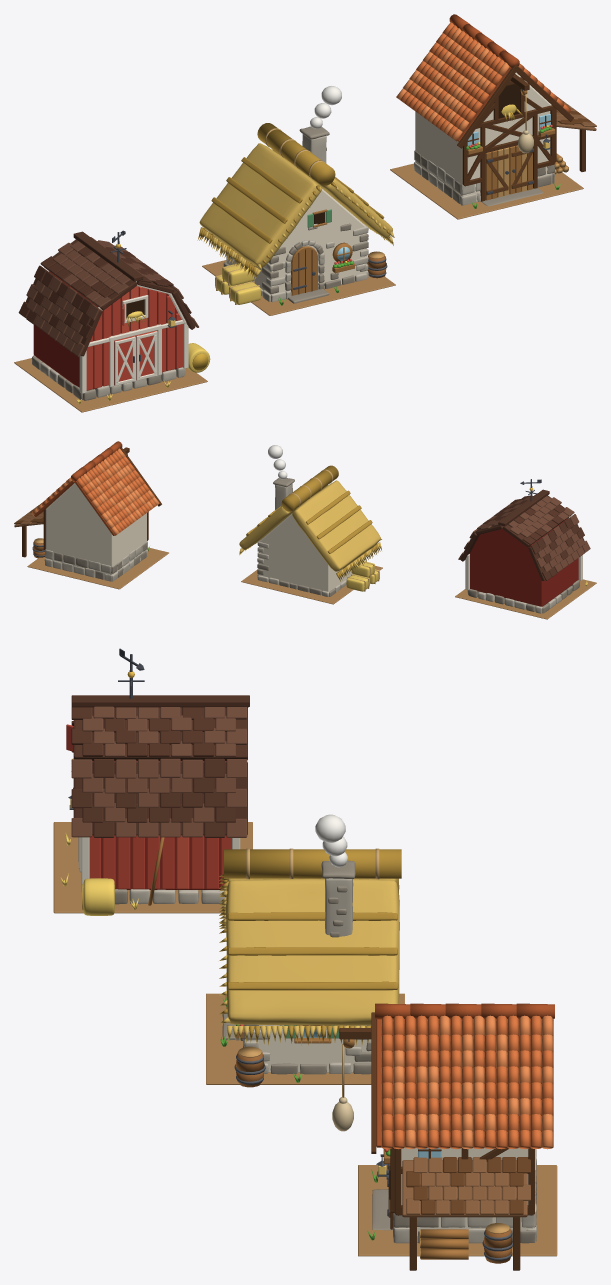
Rendered from granges.glb.
The picture shows the model from 3 angles, top to bottom: view 1: azimuth 30°, elevation 25°; view 2: azimuth 150°, elevation 25°; view 3: azimuth 270°, elevation 25°; orthographic projection. The views are drawn at different scales.
Parts seen in each view (by area): view 1: chaume, bardeau.001, tuile.001, poutre, mur.002, planche, mur.001, bordure, bardeau, tuile, terre_battue.002, terre_battue (+23 smaller); view 2: mur.002, mur, chaume, mur.001, bardeau.001, tuile.001, tuile, bardeau, terre_battue.002, pierre.004, terre_battue, faitiere (+18 smaller); view 3: chaume, tuile.001, bardeau.001, bardeau, tuile, planche, terre_battue.002, chaume_rang, bardeau.003, faitiere, terre_battue, poutre (+19 smaller).
Part boxes in pixels (<box>): chaume: <box>199,143,392,267</box>; bardeau.001: <box>26,237,198,357</box>; tuile.001: <box>400,22,570,136</box>; poutre: <box>457,65,585,201</box>; mur.002: <box>415,72,552,201</box>; planche: <box>86,289,183,390</box>; mur.001: <box>226,189,366,294</box>; bordure: <box>79,281,188,393</box>; bardeau: <box>18,246,191,338</box>; tuile: <box>396,28,509,141</box>; terre_battue.002: <box>390,163,583,219</box>; terre_battue: <box>14,358,207,412</box>; mur.002: <box>46,483,146,579</box>; mur: <box>469,519,578,606</box>; chaume: <box>239,480,380,571</box>; mur.001: <box>259,513,353,594</box>; bardeau.001: <box>458,496,590,572</box>; tuile.001: <box>41,450,156,532</box>; tuile: <box>31,448,159,535</box>; bardeau: <box>464,493,584,580</box>; terre_battue.002: <box>27,547,168,589</box>; pierre.004: <box>45,541,147,581</box>; terre_battue: <box>455,579,596,619</box>; faitiere: <box>281,465,338,511</box>; chaume: <box>225,878,399,1025</box>; tuile.001: <box>381,1015,553,1149</box>; bardeau.001: <box>71,706,247,837</box>; bardeau: <box>71,707,235,837</box>; tuile: <box>393,1015,553,1149</box>; planche: <box>89,835,231,889</box>; terre_battue.002: <box>358,1165,557,1256</box>; chaume_rang: <box>227,912,398,990</box>; bardeau.003: <box>406,1157,530,1214</box>; faitiere: <box>224,849,401,878</box>; terre_battue: <box>53,822,252,913</box>; poutre: <box>339,1012,534,1270</box>.
Size of the model in its own units: 14.58 by 3.82 by 6.82.
